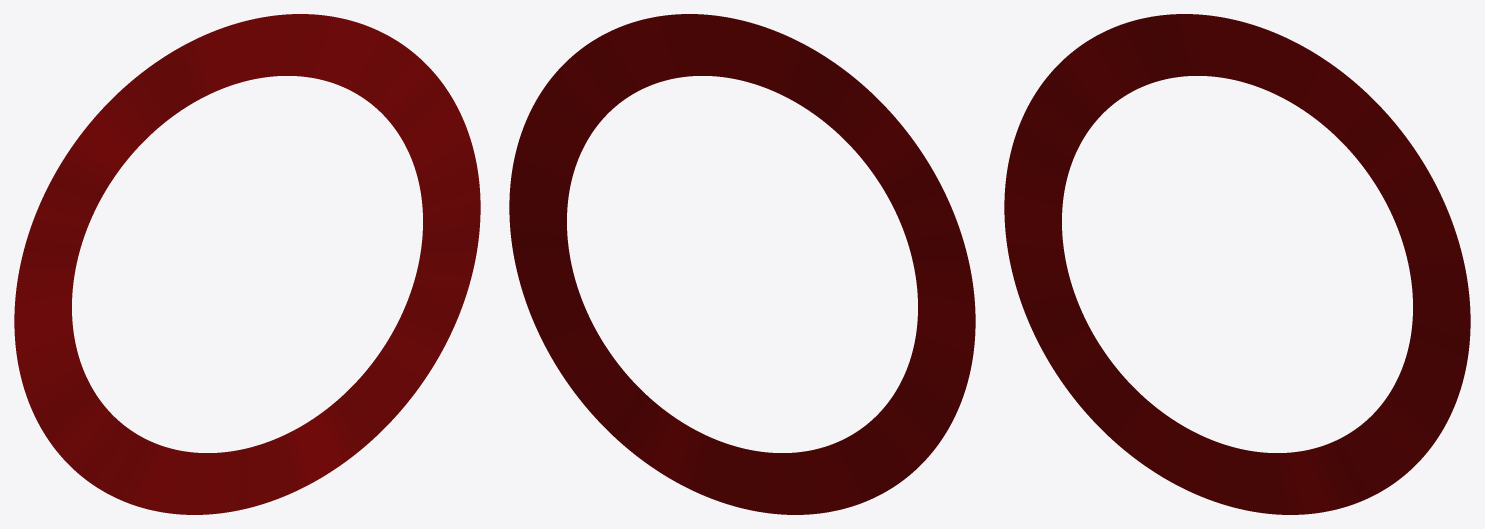
File: WaveRingForeground.fbx
3 renders of one model, left to right at view 1: azimuth 30°, elevation 25°; view 2: azimuth 150°, elevation 25°; view 3: azimuth 330°, elevation 25°, orthographic.
Visible parts, largest first — view 1: WaveRingForeground; view 2: WaveRingForeground; view 3: WaveRingForeground.
Part boxes in pixels (<box>): WaveRingForeground: <box>14,14,480,514</box>; WaveRingForeground: <box>509,14,975,514</box>; WaveRingForeground: <box>1004,14,1470,514</box>.
Size of the model in its own units: 20000 by 20000 by 0.
